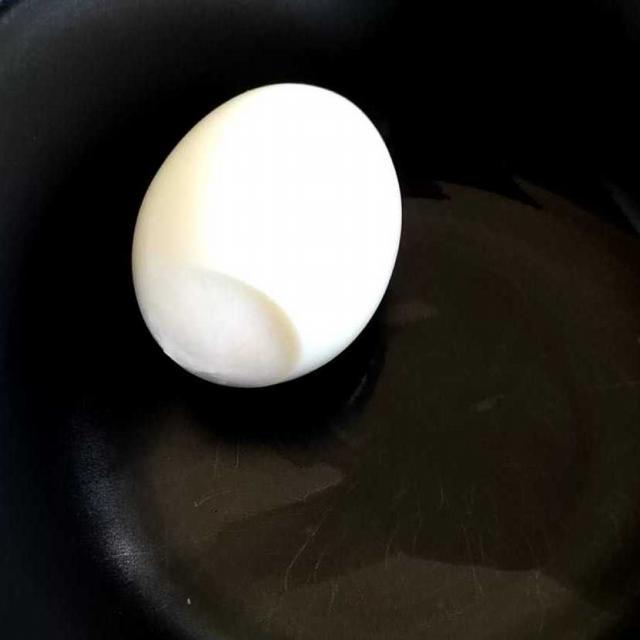egg: (134, 93, 392, 381)
